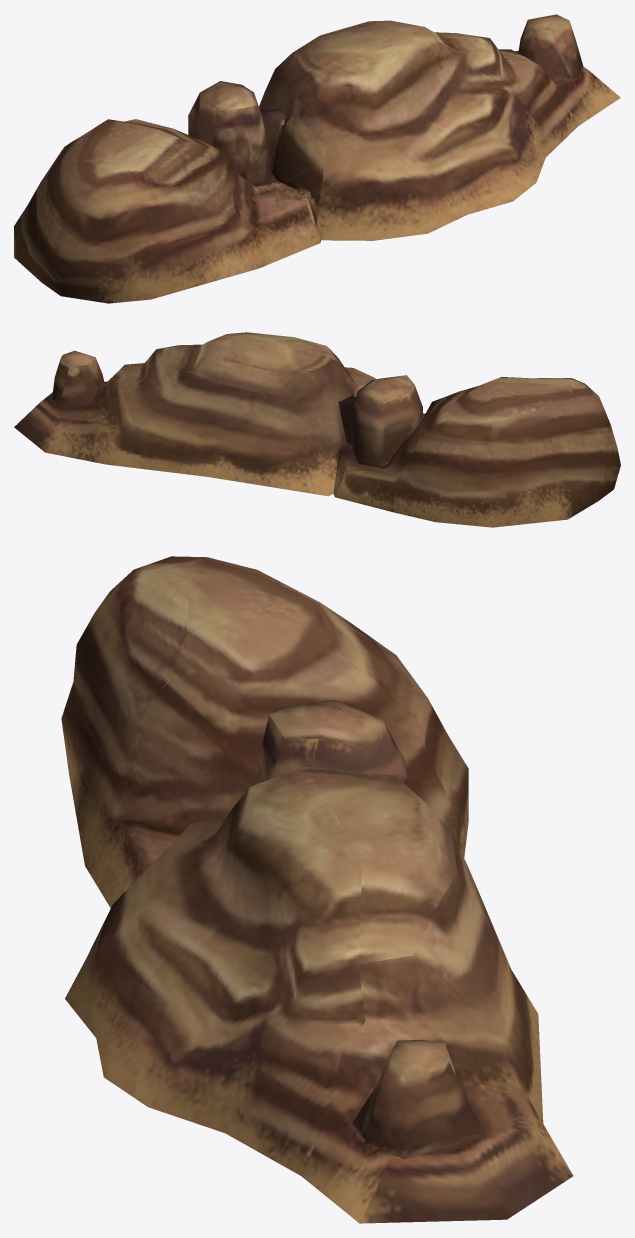
File: shitou10.FBX
3 renders of one model, top to bottom at view 1: azimuth 30°, elevation 25°; view 2: azimuth 150°, elevation 25°; view 3: azimuth 270°, elevation 25°, orthographic. The views are drawn at different scales.
Visible parts, largest first — view 1: 对象016; view 2: 对象016; view 3: 对象016.
Part boxes in pixels (<box>): 对象016: <box>14,14,620,303</box>; 对象016: <box>14,332,620,527</box>; 对象016: <box>61,556,573,1223</box>.
Size of the model in its own units: 685 by 135 by 290.
